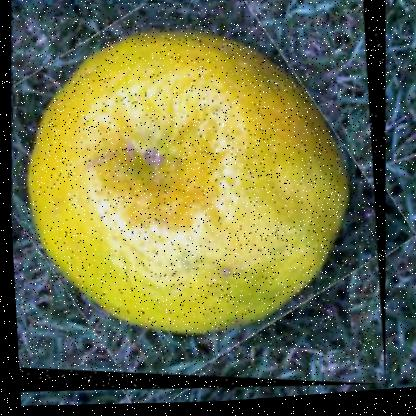orange: (0, 0, 402, 410)
